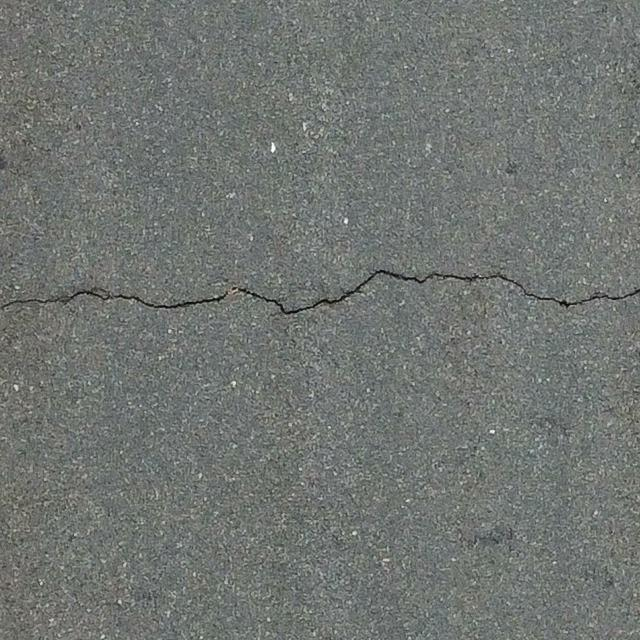TransverseCrack: (1, 269, 640, 315)
